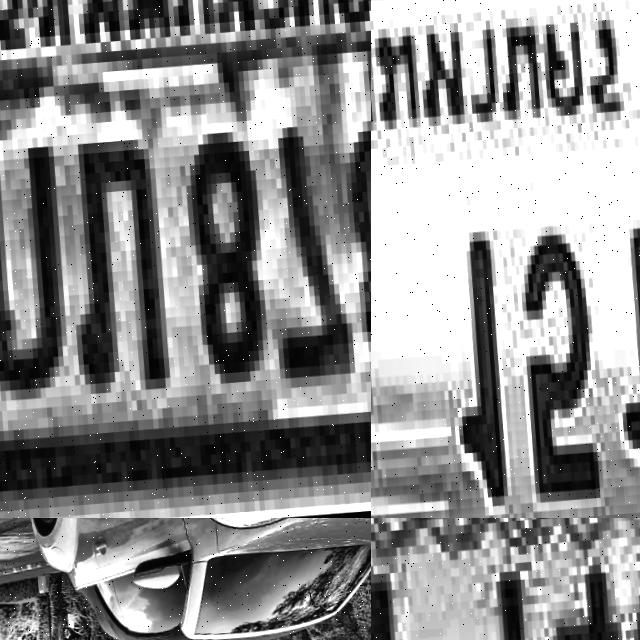license-plate: (0, 0, 371, 513), (371, 0, 640, 518), (371, 518, 640, 640)
